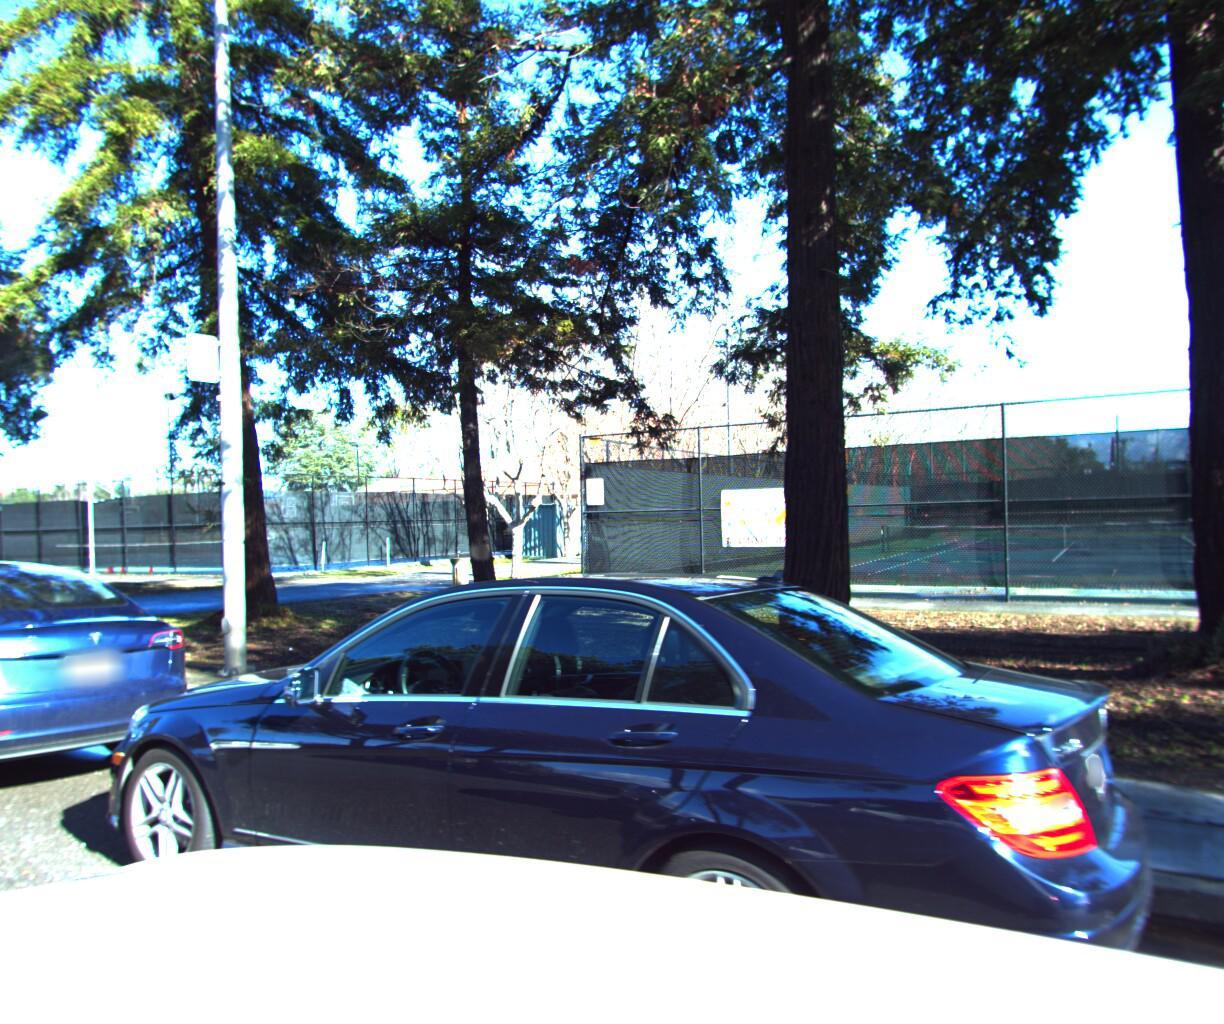car: (50, 553, 1175, 1024), (0, 548, 229, 841)
